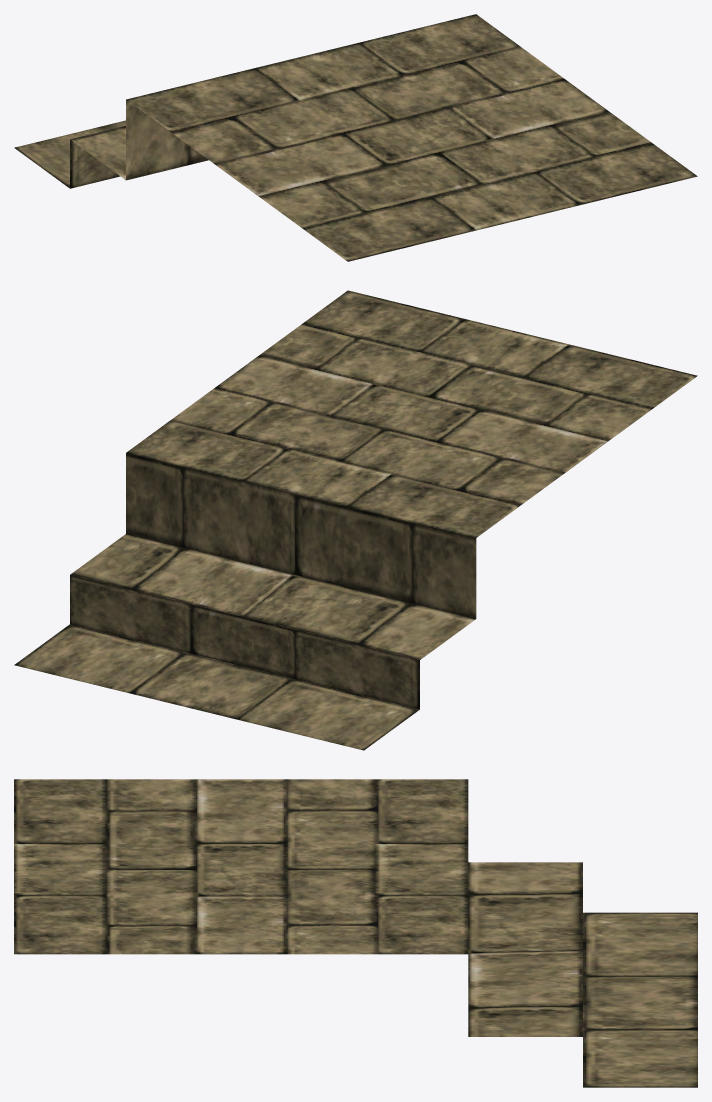
The model's file is OVERHILL_A_01_OBJECT326.fbx.
The picture shows the model from 3 angles, top to bottom: view 1: azimuth 30°, elevation 25°; view 2: azimuth 150°, elevation 25°; view 3: azimuth 270°, elevation 25°; orthographic projection. The views are drawn at different scales.
Visible parts, largest first — view 1: OVERHILL_A_01_OBJECT326; view 2: OVERHILL_A_01_OBJECT326; view 3: OVERHILL_A_01_OBJECT326.
Boxes of the visible parts, x1,y1,x2,y2 form: OVERHILL_A_01_OBJECT326: (14,14,697,261); OVERHILL_A_01_OBJECT326: (14,290,697,750); OVERHILL_A_01_OBJECT326: (14,779,697,1087).
Bounding box in the file's own units: 36360 × 12938 × 60089.
Materials: 1 (1 with a texture image).
